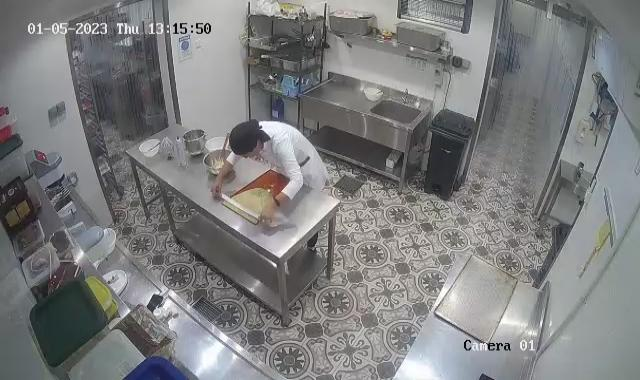no_hairnet: (230, 120, 268, 157)
